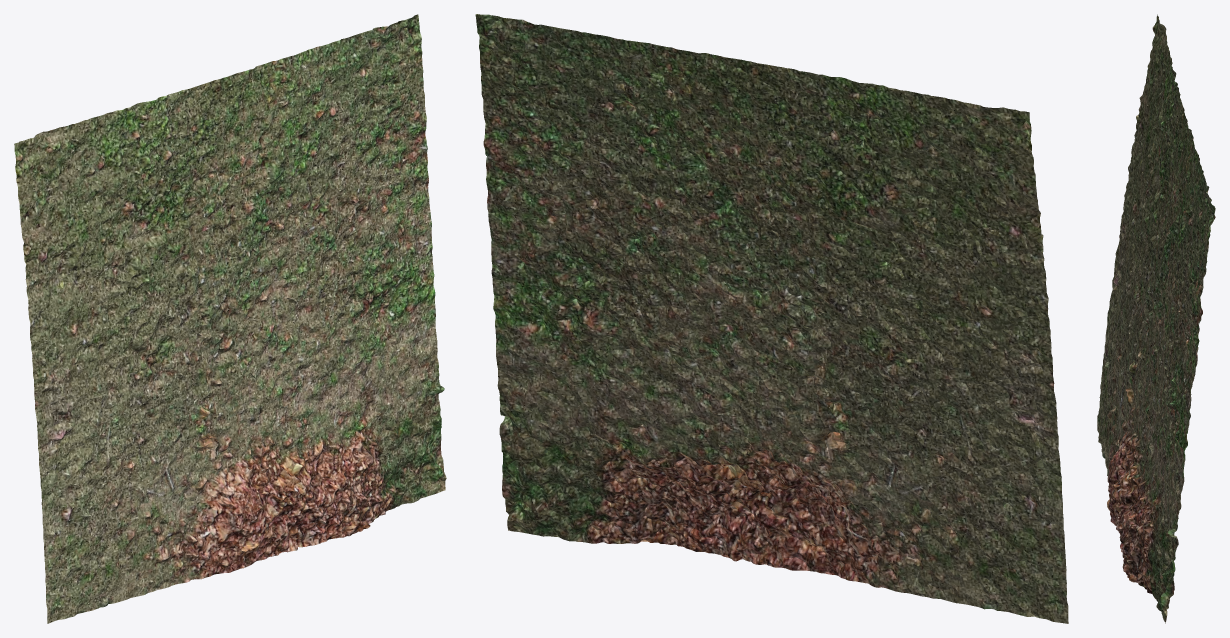
The model's file is Tile_+001_+002.obj.
The picture shows the model from 3 angles, left to right: view 1: azimuth 30°, elevation 25°; view 2: azimuth 150°, elevation 25°; view 3: azimuth 270°, elevation 25°; orthographic projection. The views are drawn at different scales.
Size of the model in its own units: 3.03 by 3.03 by 0.7831.
1 material, 1 textured.
